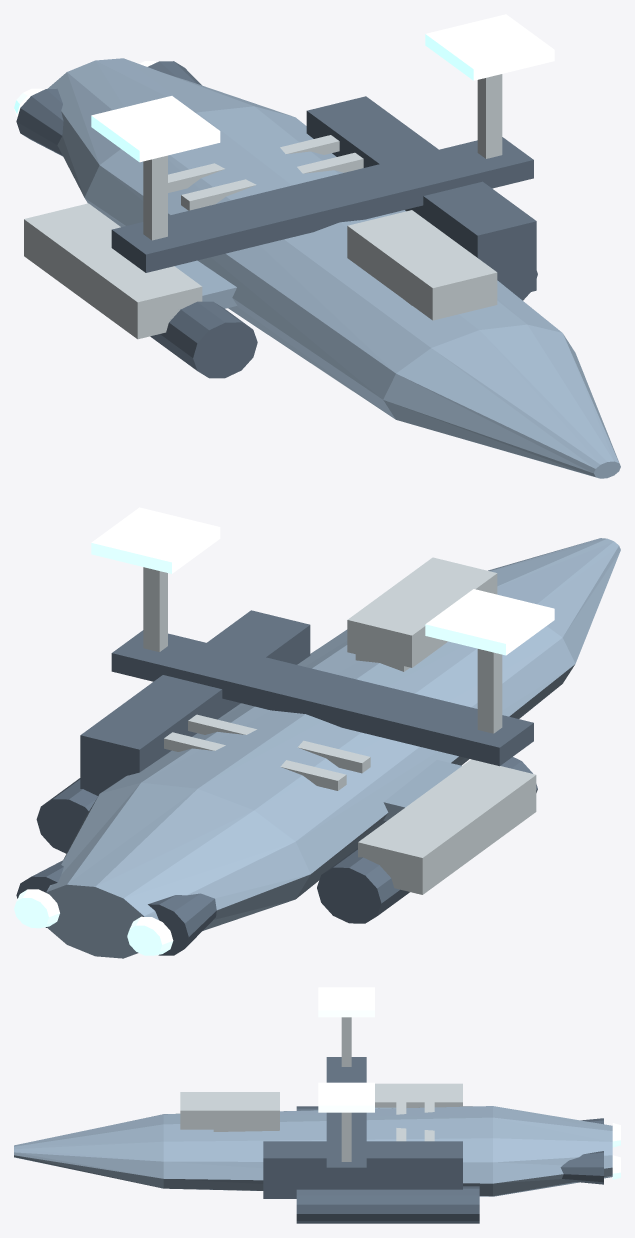
The picture shows the model from 3 angles, top to bottom: view 1: azimuth 30°, elevation 25°; view 2: azimuth 150°, elevation 25°; view 3: azimuth 270°, elevation 25°; orthographic projection. The views are drawn at different scales.
Bounding box in the file's own units: 3.6 × 1.97 × 7.81.
